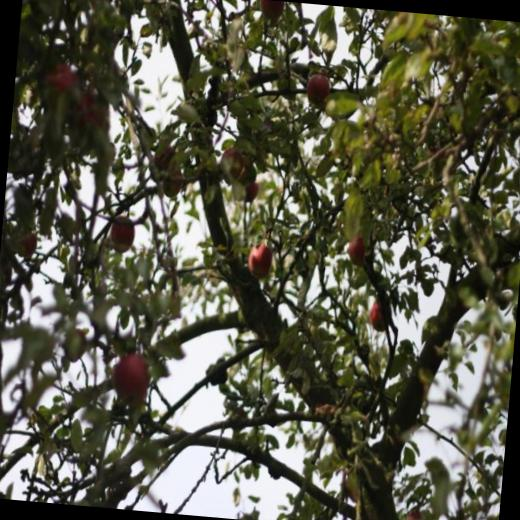Apple: (106, 347, 148, 411), (72, 89, 112, 139), (42, 62, 78, 96), (108, 215, 135, 258), (246, 245, 272, 283), (216, 148, 242, 185), (61, 327, 87, 364), (161, 162, 186, 200), (306, 75, 333, 108), (367, 301, 393, 334), (424, 148, 448, 182), (345, 234, 367, 270), (151, 143, 176, 172), (14, 232, 38, 258), (257, 0, 284, 23), (238, 156, 255, 190), (243, 180, 259, 206), (404, 509, 427, 520)
